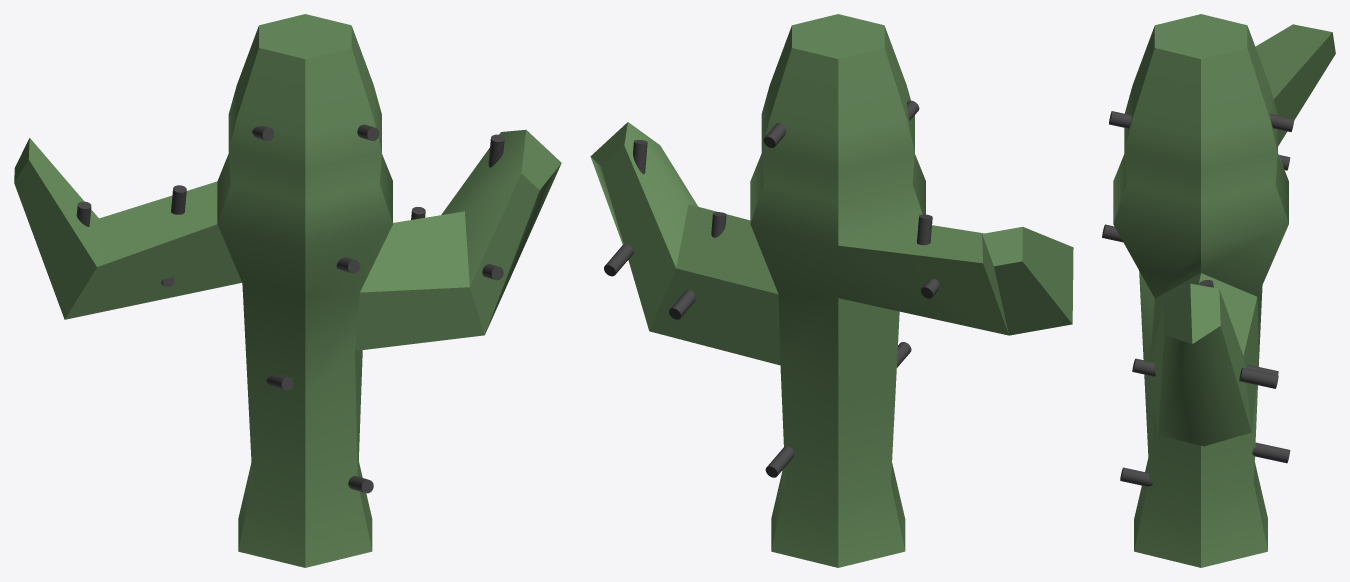
File: west_ca.fbx
3 views of the same model, side by side, from view 1: azimuth 30°, elevation 25°; view 2: azimuth 150°, elevation 25°; view 3: azimuth 270°, elevation 25° (orthographic).
Visible parts, largest first — view 1: pCylinder49; view 2: pCylinder49; view 3: pCylinder49.
Part boxes in pixels (left/top/right/bottom): pCylinder49: left=14, top=14, right=561, bottom=567; pCylinder49: left=590, top=14, right=1073, bottom=567; pCylinder49: left=1102, top=14, right=1335, bottom=567.
Size of the model in its own units: 4.91 by 4.78 by 2.03.
